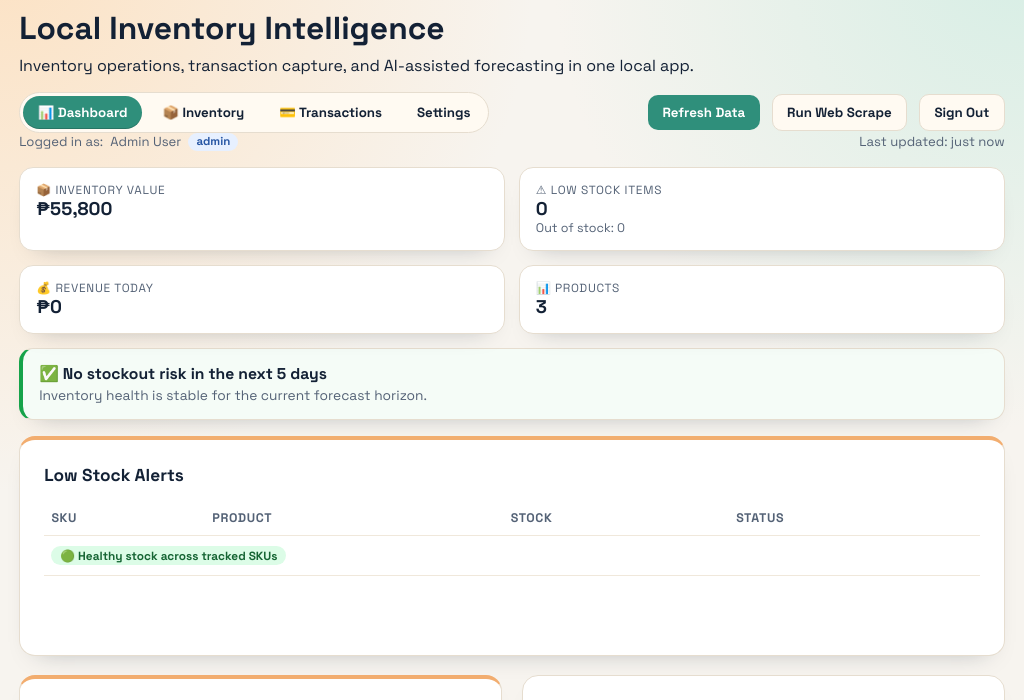
Dashboard rendering › filters the products table by category and stock status
Click the button "📦 Inventory" at (203, 112), box [148,96,259,129]
(page scrolled)
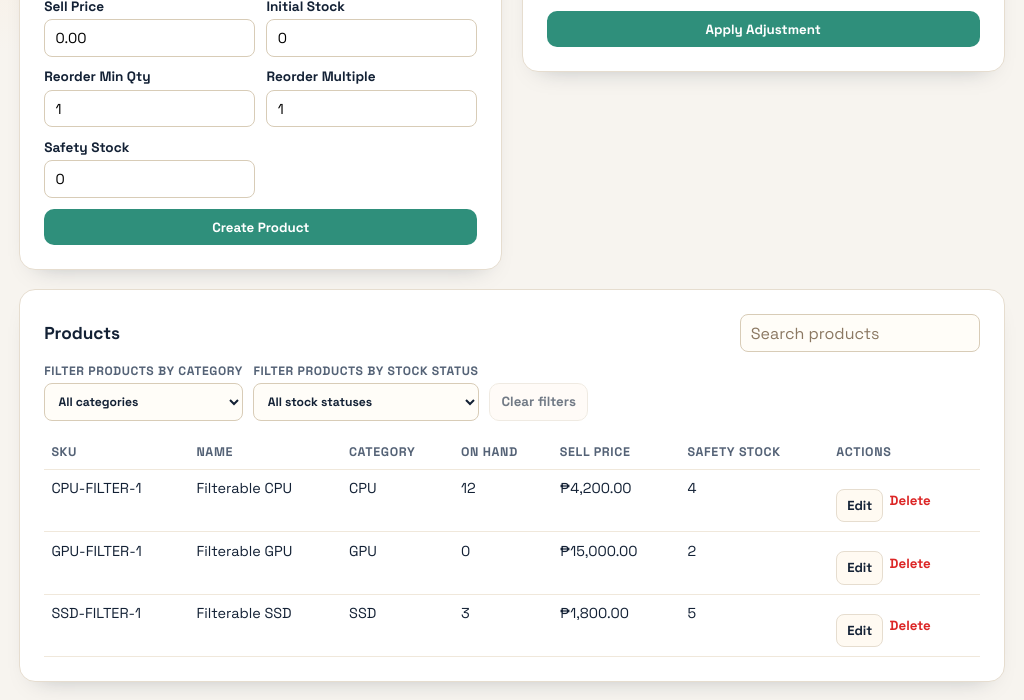
Check: the text "Filterable CPU" is shown, box [189,469,342,532]
Select "GPU" in the dropdown labelled "Filter products by category" at (144, 402), box [44,383,243,421]
(page scrolled)
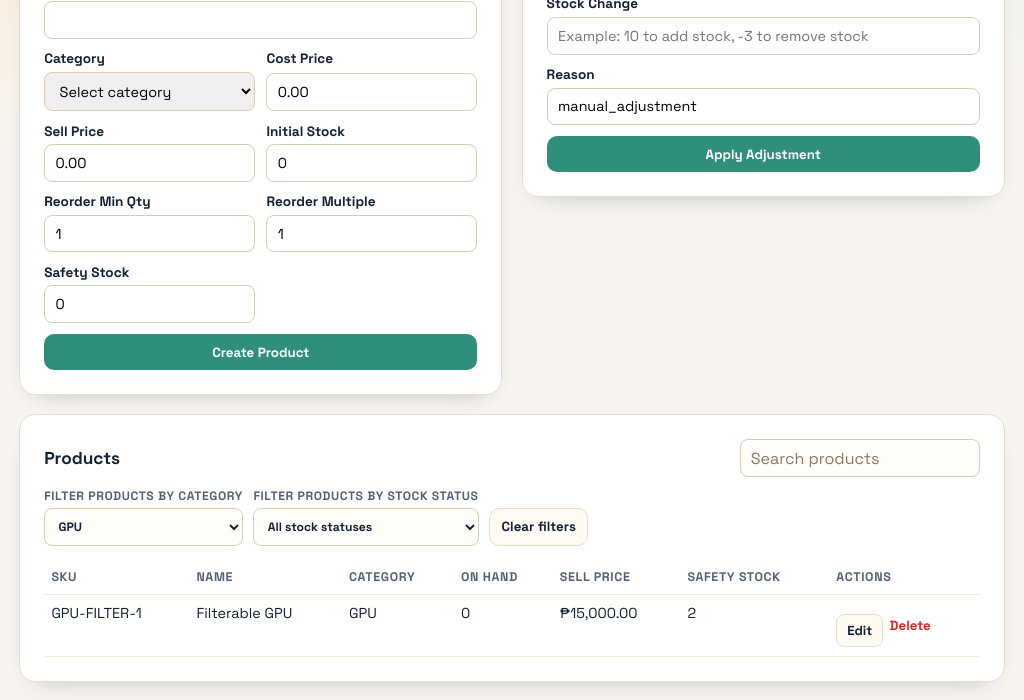
Check: the text "Filterable GPU" is shown, box [189,594,342,657]
Check: the text "Filterable SSD" is gone
Click the button "Clear filters" at (539, 527), box [489,508,588,546]
(page scrolled)
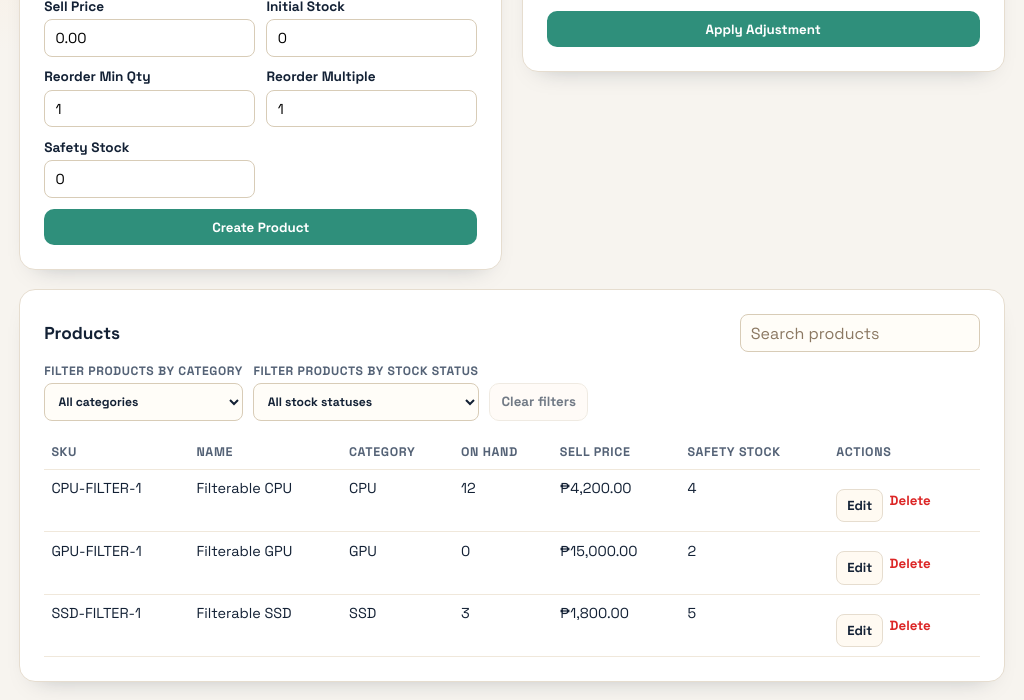
Select "Low stock" in the dropdown labelled "Filter products by stock status" at (366, 402), box [253,383,479,421]
(page scrolled)
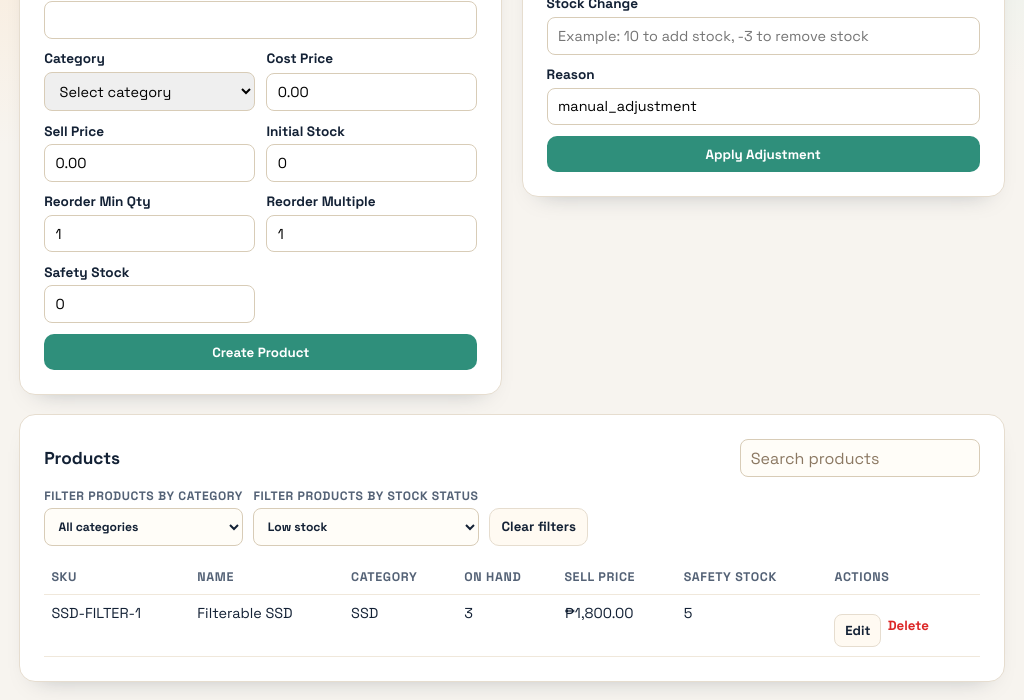
Check: the text "Filterable SSD" is shown, box [190,594,344,657]
Check: the text "Filterable GPU" is gone
Select "Out of stock" in the dropdown labelled "Filter products by stock status" at (366, 527), box [253,508,479,546]
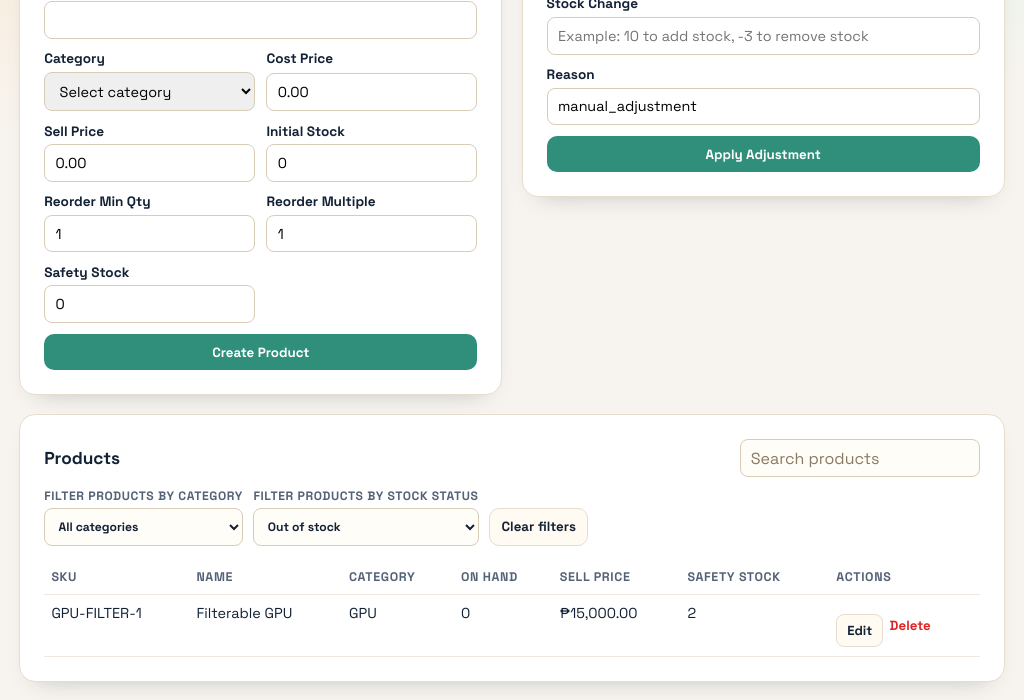
Check: the text "Filterable GPU" is shown, box [189,594,342,657]
Check: the text "Filterable SSD" is gone
